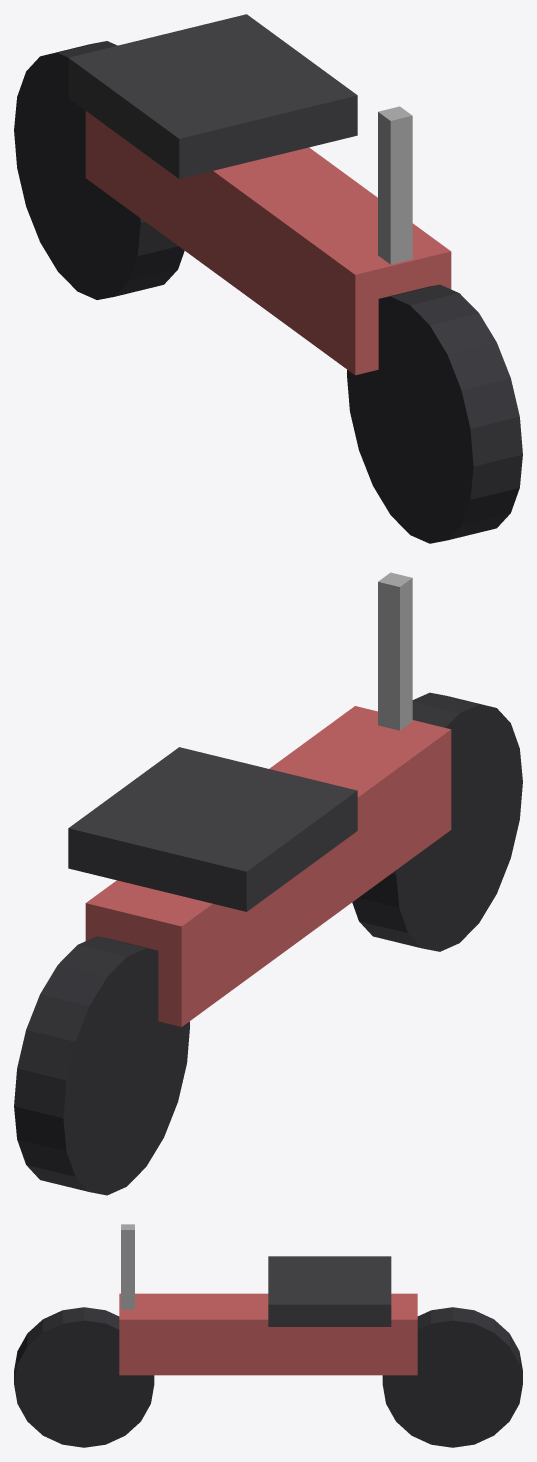
Rendered from motorcycle.glb.
The picture shows the model from 3 angles, top to bottom: view 1: azimuth 30°, elevation 25°; view 2: azimuth 150°, elevation 25°; view 3: azimuth 270°, elevation 25°; orthographic projection. The views are drawn at different scales.
Parts seen in each view (by area): view 1: p2, p1, p3, p0, p4; view 2: p2, p0, p3, p1, p4; view 3: p2, p0, p1, p3, p4.
Boxes of the visible parts, <box> form: p2: <box>85,111,451,375</box>; p1: <box>347,284,522,543</box>; p3: <box>68,14,357,178</box>; p0: <box>14,41,184,299</box>; p4: <box>378,106,412,264</box>; p2: <box>85,706,451,1026</box>; p0: <box>14,936,189,1195</box>; p3: <box>68,747,357,911</box>; p1: <box>352,692,522,951</box>; p4: <box>378,572,412,730</box>; p2: <box>119,1293,417,1375</box>; p0: <box>382,1307,522,1447</box>; p1: <box>14,1307,154,1447</box>; p3: <box>268,1256,391,1326</box>; p4: <box>121,1224,134,1309</box>.
Size of the model in its own units: 0.65 by 1.34 by 2.9.
